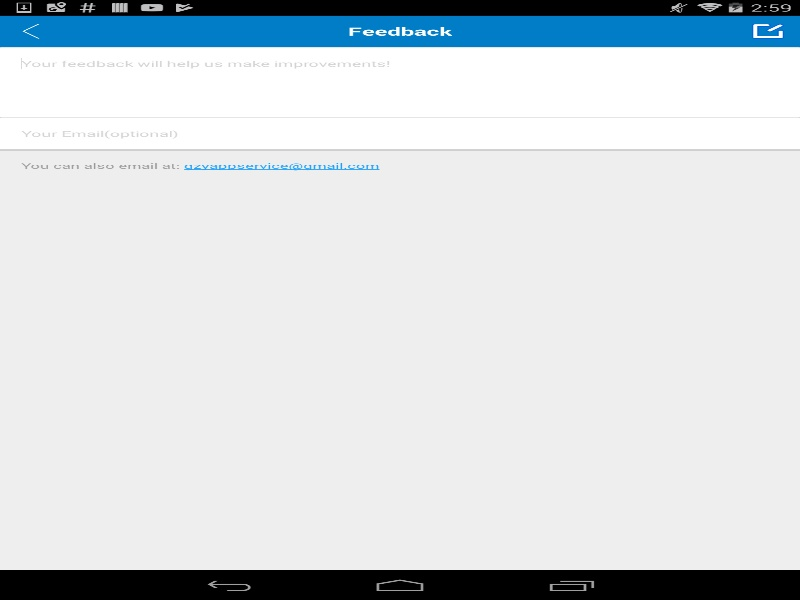Input: (0, 48, 800, 116), (0, 118, 800, 149)
